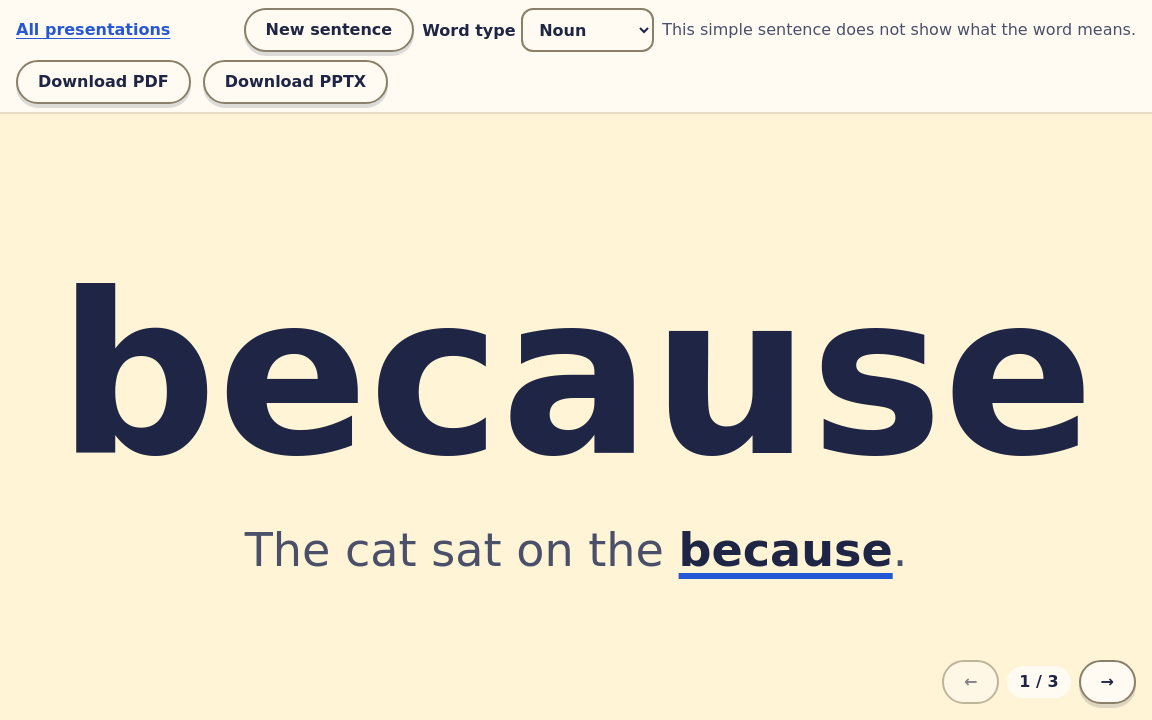
Scenario: PresentationPage › downloads › shows an error when a download fails, and removes it when the next download starts
The image size is (1152, 720).
Expected: the 1st text "because" is shown, [58,254,1094,499]
Click the button "Download PDF" at x=103, y=82, box [16,60,191,104]
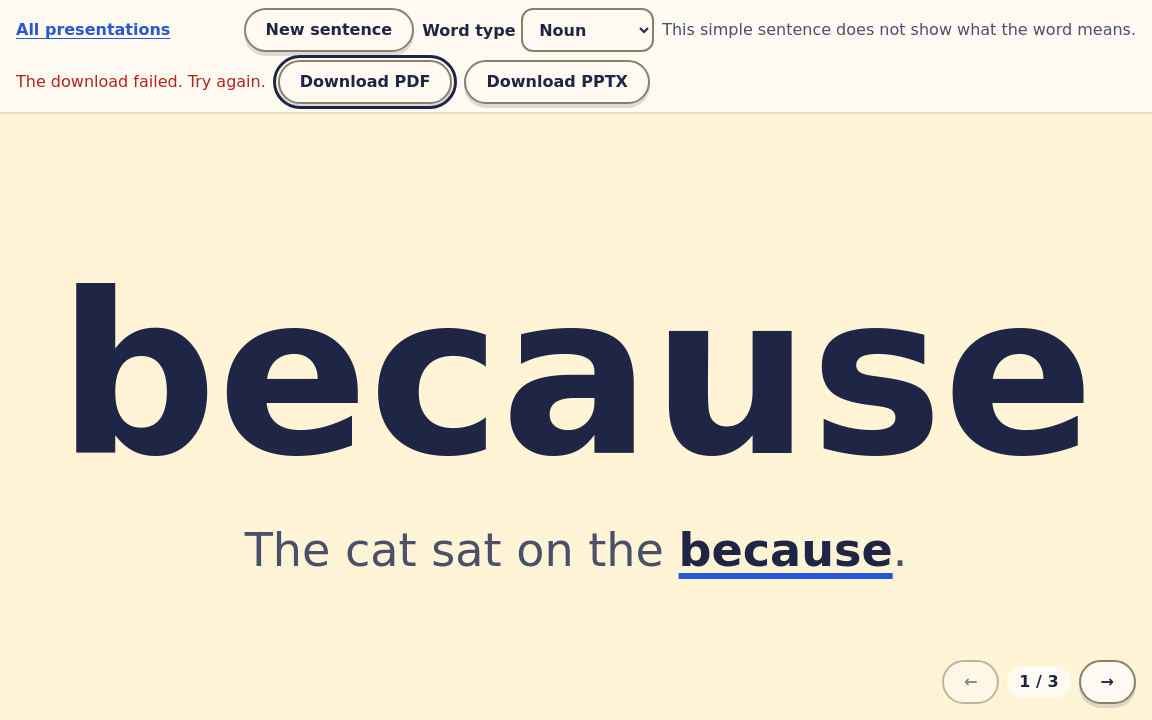
Expected: the message reads "The download failed. Try again.", [16,72,266,91]
Click the button "Download PDF" at x=365, y=82, box [278,60,452,104]
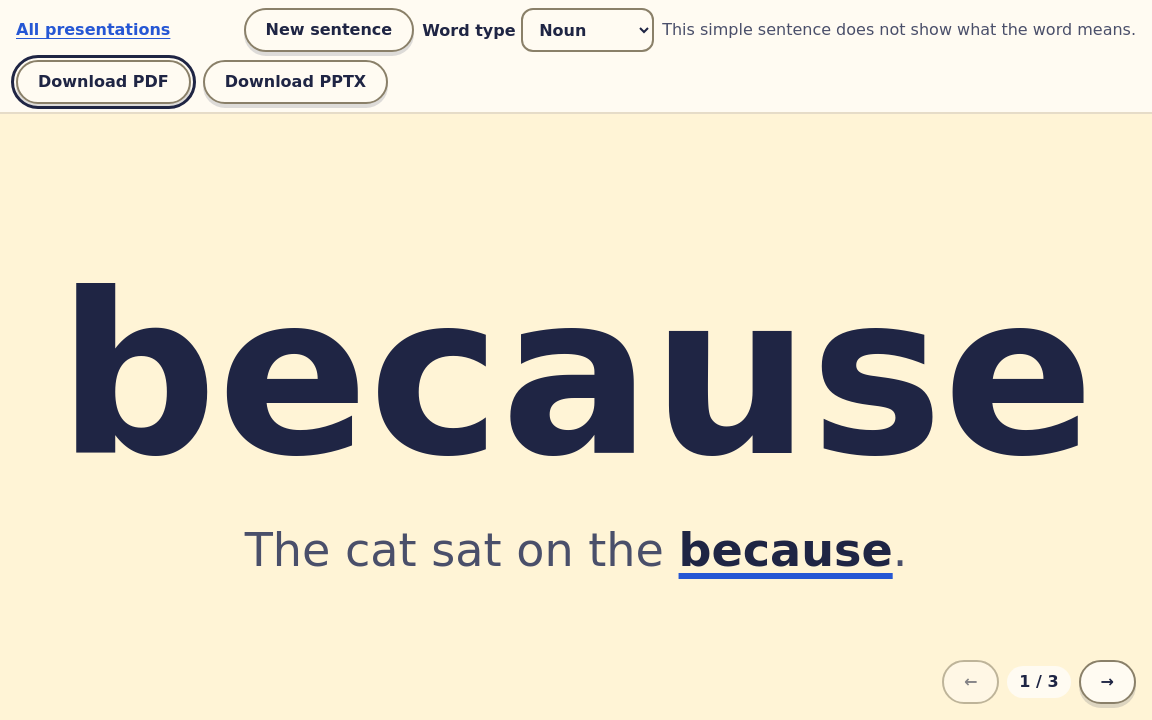
Expected: the message "The download failed. Try again." is gone
